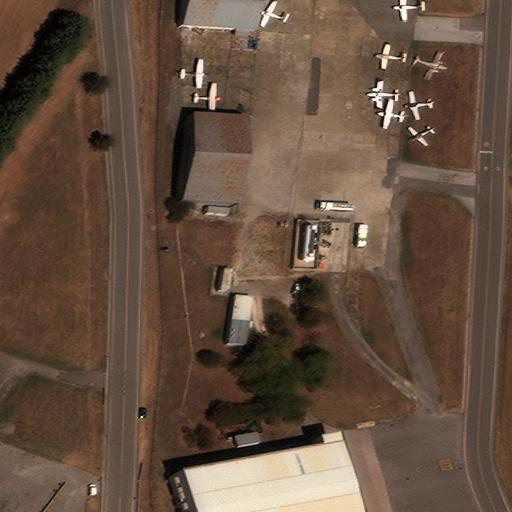Small Civil Transport: (413, 52, 447, 80), (376, 99, 407, 129), (192, 82, 221, 113), (404, 91, 435, 120), (366, 81, 400, 107), (257, 0, 288, 26), (375, 44, 407, 69), (178, 59, 205, 88), (392, 0, 426, 20), (407, 127, 434, 146)
